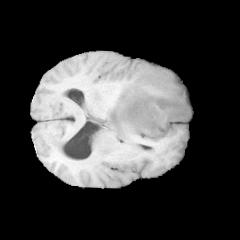glioma: (107, 68, 190, 142)
